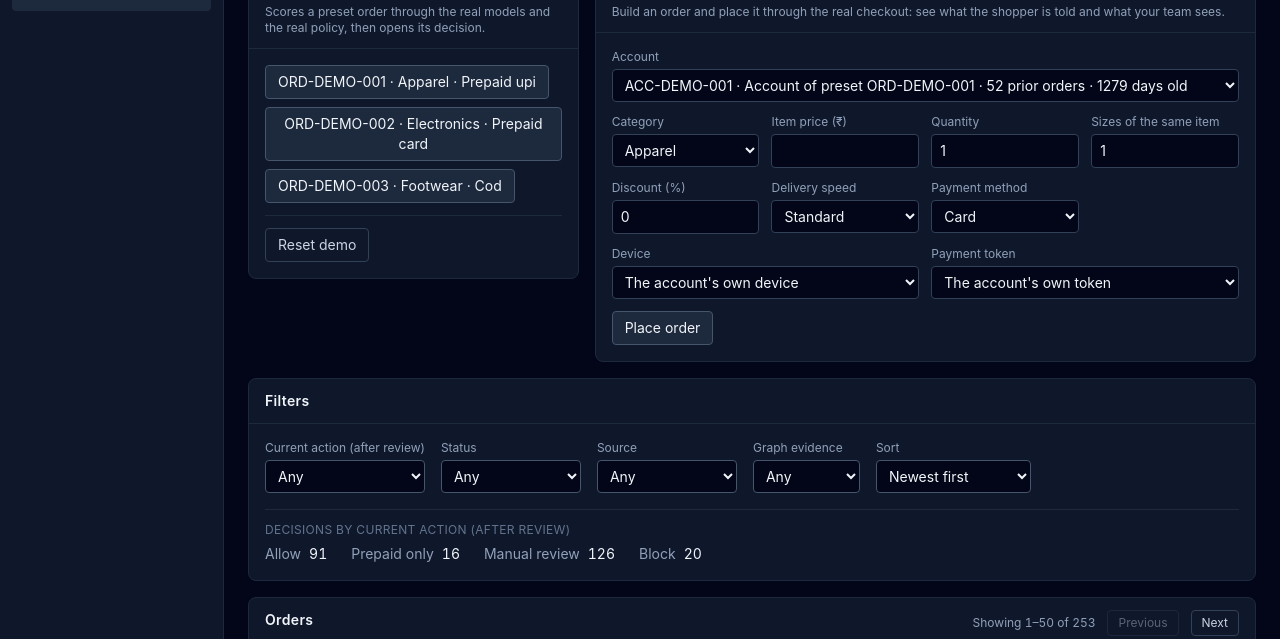
placing an order › sends the order once to the public checkout, then reads the decision, never scoring twice
Check: the form with test id "try-form" is shown, box left=612, top=49, right=1239, bottom=345
Select "ACC-DEMO-001 · Account of preset ORD-DEMO-001 · 52 prior orders · 1279 days old" in the dropdown labelled "Account". click: (925, 86)
box: left=612, top=69, right=1239, bottom=102
Type "1499" into the number field labelled "Item price (₹)". click: (845, 151)
box: left=772, top=134, right=919, bottom=168
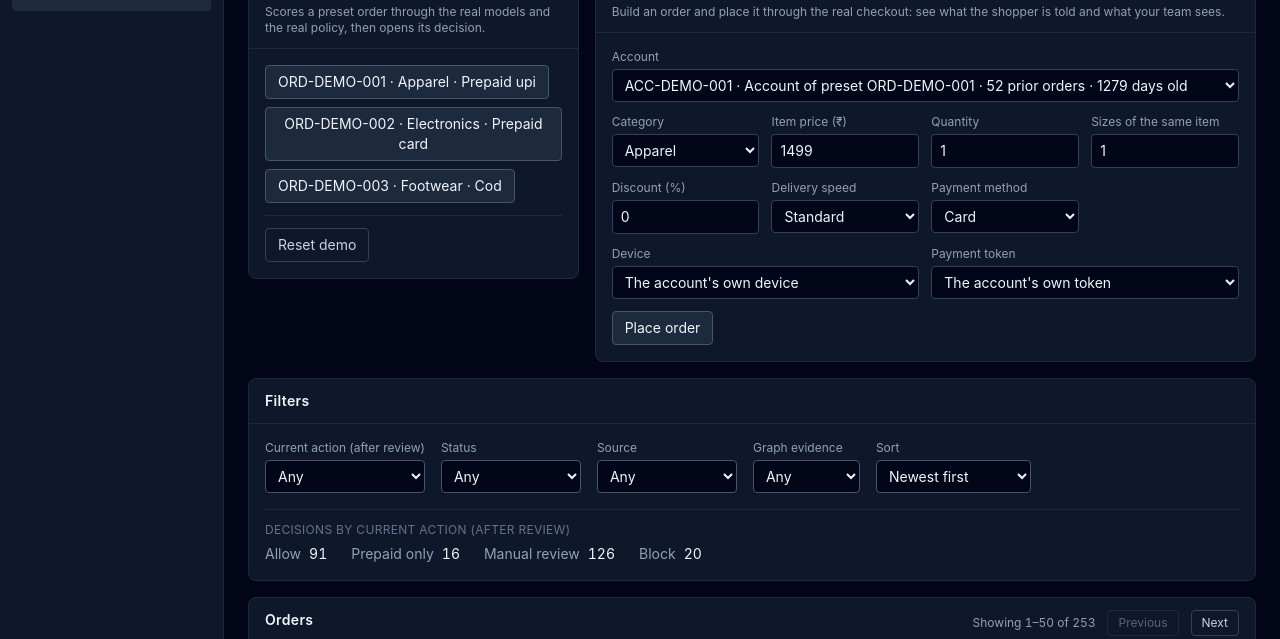
Click the button with test id "try-submit". click: click(663, 328)
box: left=612, top=311, right=713, bottom=345
(page scrolled)
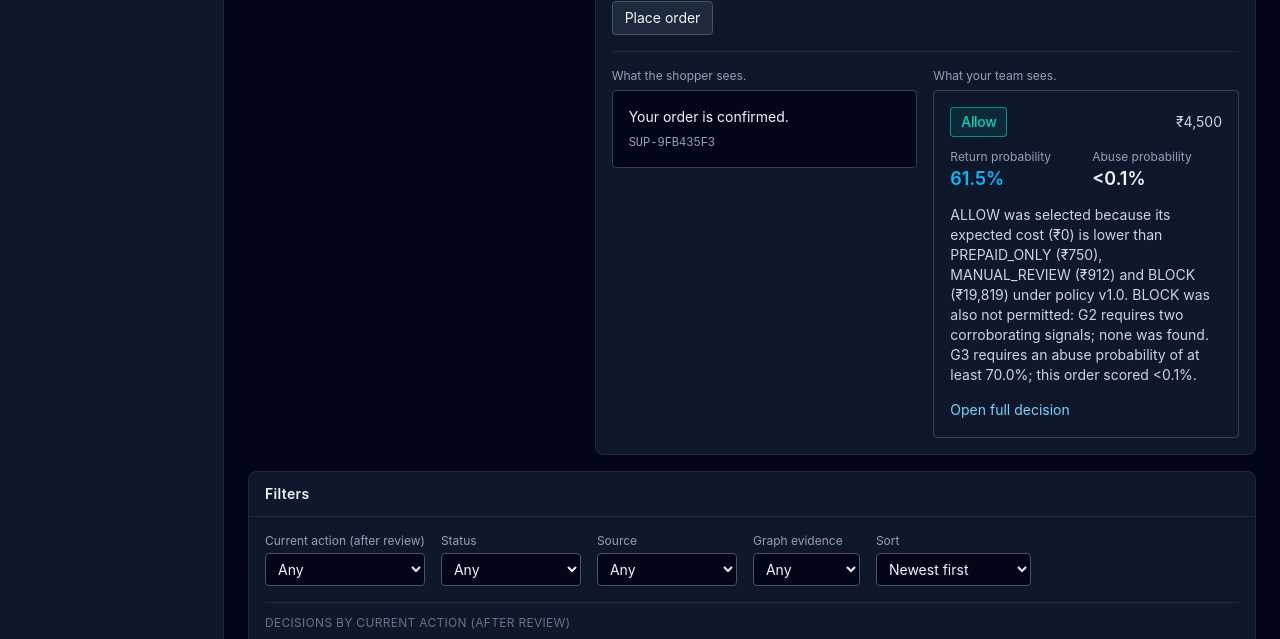
Check: the element with test id "try-result" is shown, box left=612, top=51, right=1239, bottom=438
